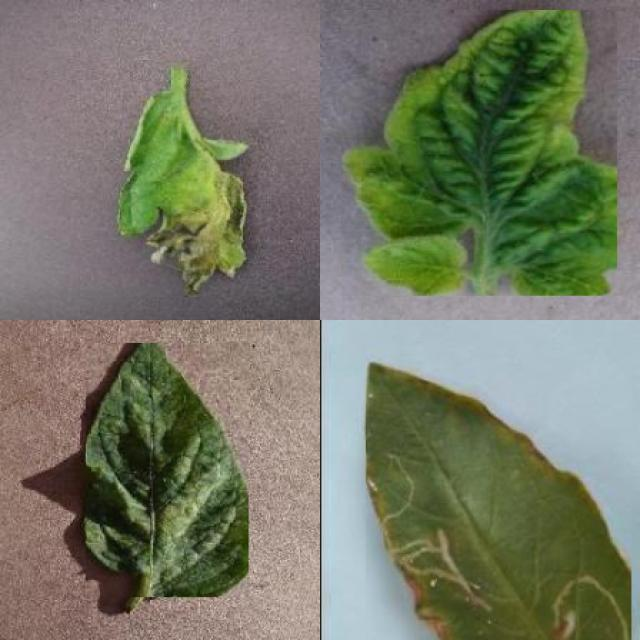Late Blight: (119, 89, 248, 297)
Leaf Miner: (366, 361, 631, 640)
Spider Mites: (85, 343, 248, 597)
Yellow Leaf Curl Virus: (342, 10, 617, 296)
